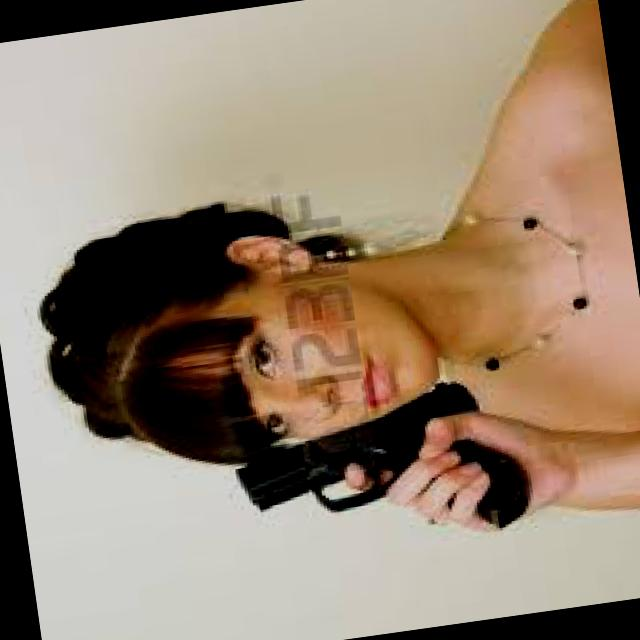handgun: (222, 372, 534, 563)
